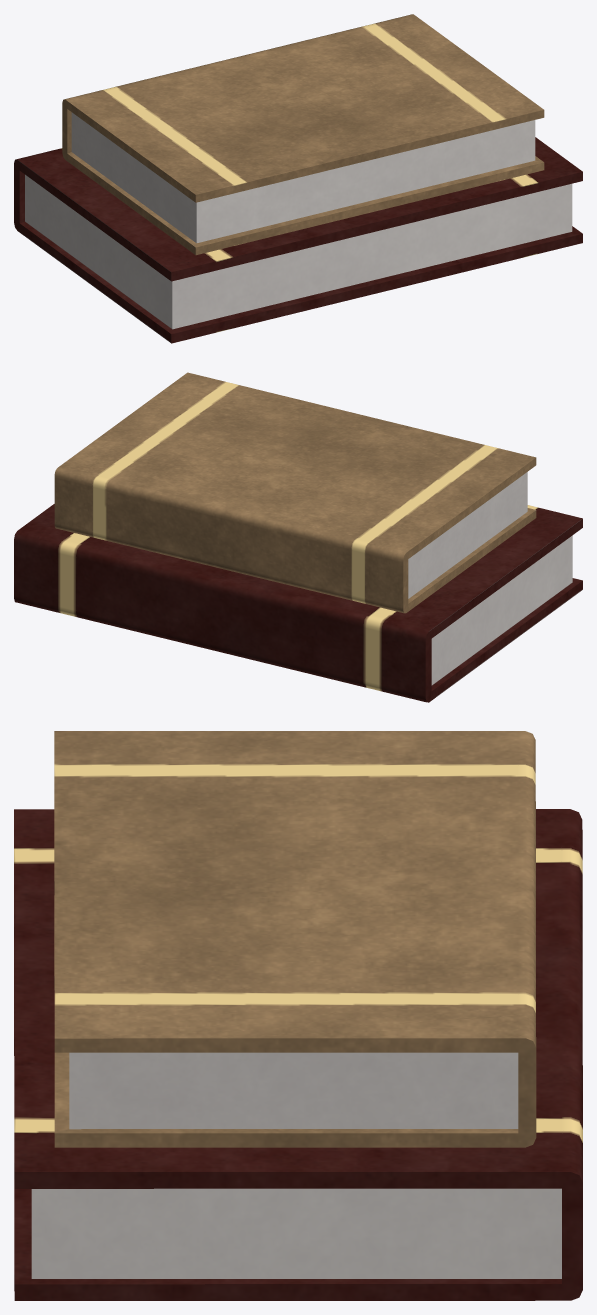
Rendered from shelf_props_side_books.fbx.
3 views of the same model, one above another, from view 1: azimuth 30°, elevation 25°; view 2: azimuth 150°, elevation 25°; view 3: azimuth 270°, elevation 25° (orthographic). The views are drawn at different scales.
Visible parts, largest first — view 1: Cube.030; view 2: Cube.030; view 3: Cube.030.
Boxes of the visible parts, x1,y1,x2,y2 form: Cube.030: [14, 14, 582, 343]; Cube.030: [14, 372, 582, 702]; Cube.030: [14, 731, 582, 1300].
Bounding box in the file's own units: 23.02 × 7.04 × 15.25.
